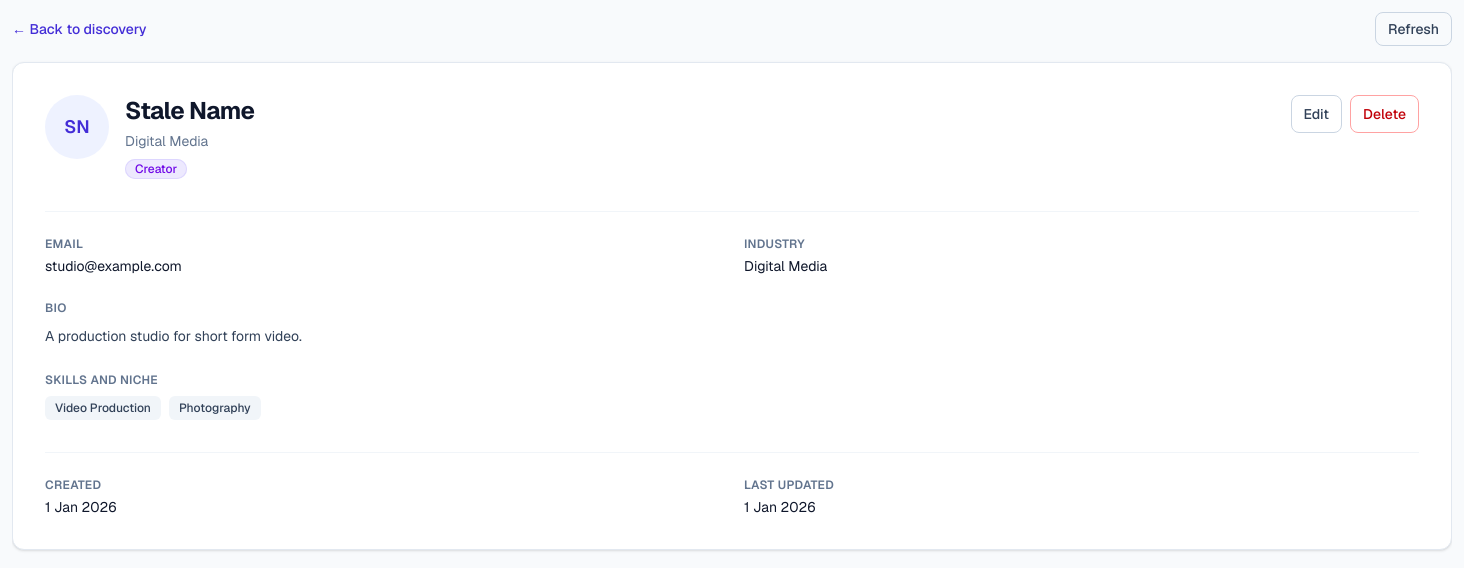
Test: ProfileDetail › reloads the profile from the API when Refresh is clicked
The width and height of the screenshot is (1464, 568).
Expected: the heading "Stale Name" is shown, [125,95,254,127]
Click the button "Refresh" at point(1414, 29), box [1375,12,1452,46]
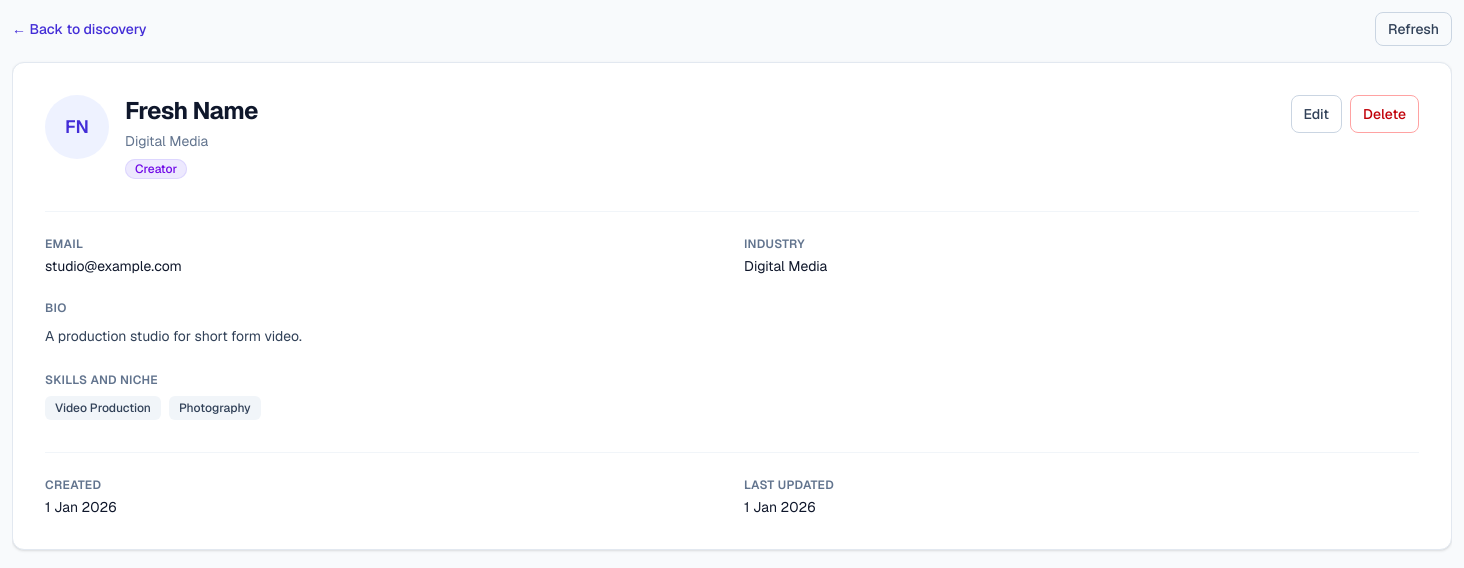
Now the heading "Fresh Name" is shown, box [125,95,258,127]
